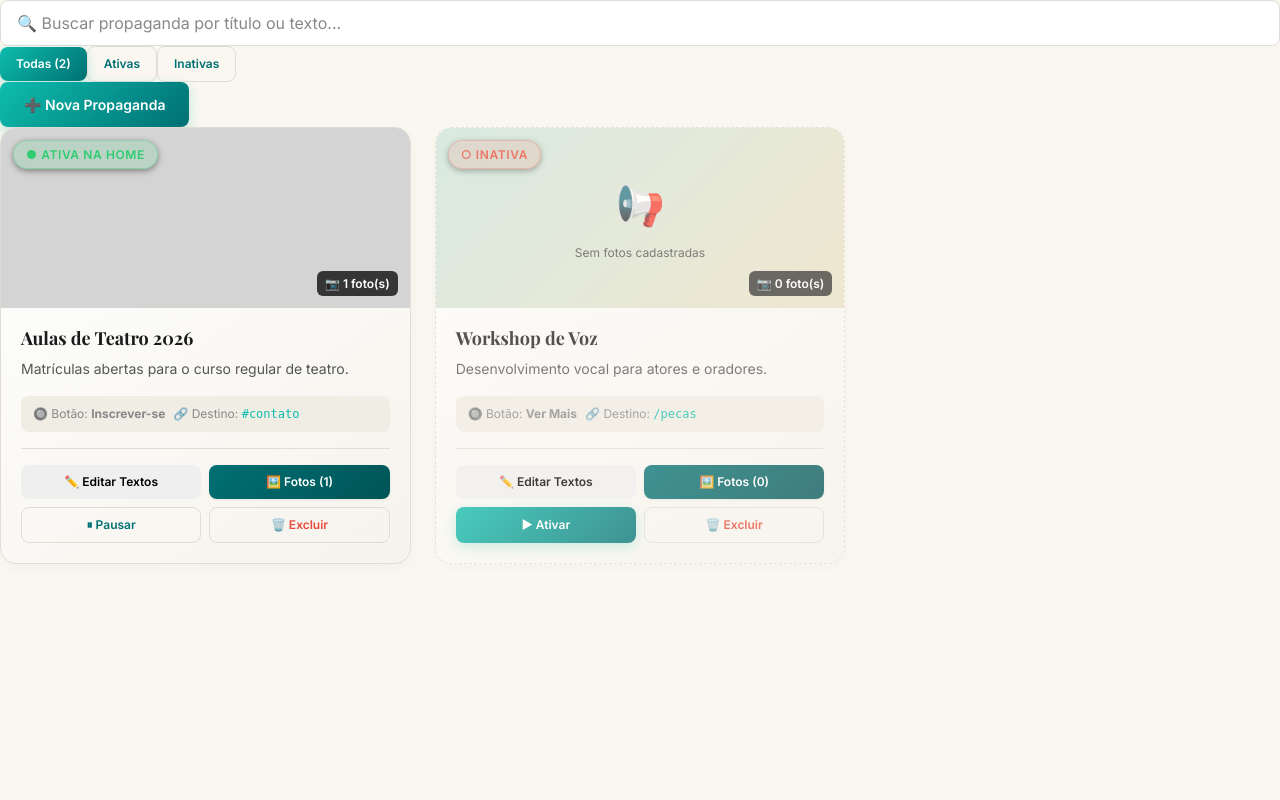
AbaPropagandas Component › deve abrir o modal de criação ao clicar em Nova Propaganda
The width and height of the screenshot is (1280, 800).
Expected: the heading "Aulas de Teatro 2026" is shown, [21,328,193,350]
Click the button "➕ Nova Propaganda": (95, 104) [0,82,189,127]
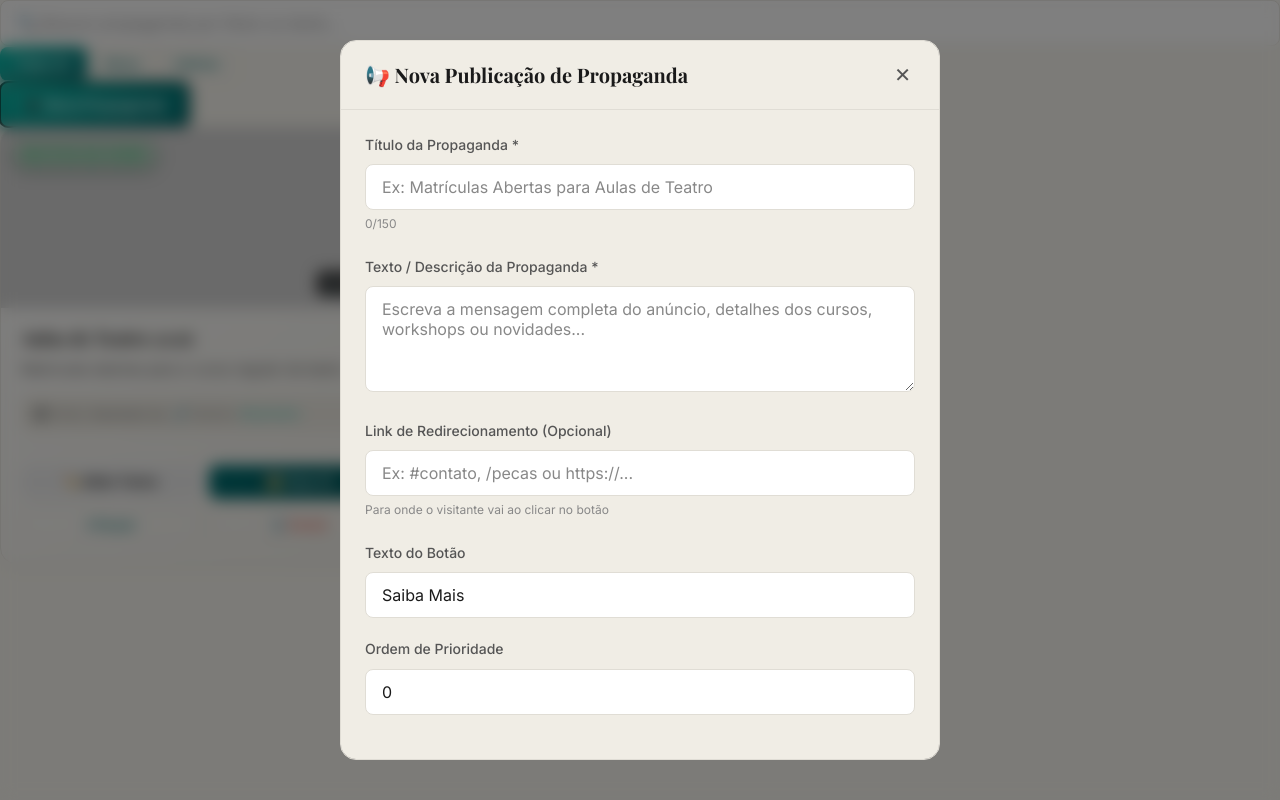
Now the heading "📢 Nova Publicação de Propaganda" is shown, box [365,63,688,87]
Now the field labelled "Título da Propaganda *" is shown, box [365,164,915,210]
Now the text box labelled "Texto / Descrição da Propaganda *" is shown, box [365,286,915,392]
